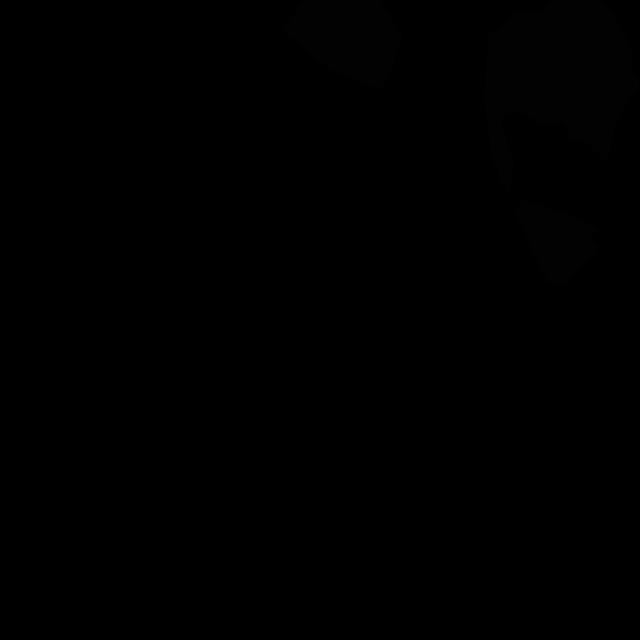cardboard: (484, 0, 640, 196), (282, 0, 403, 89), (514, 199, 600, 282)
